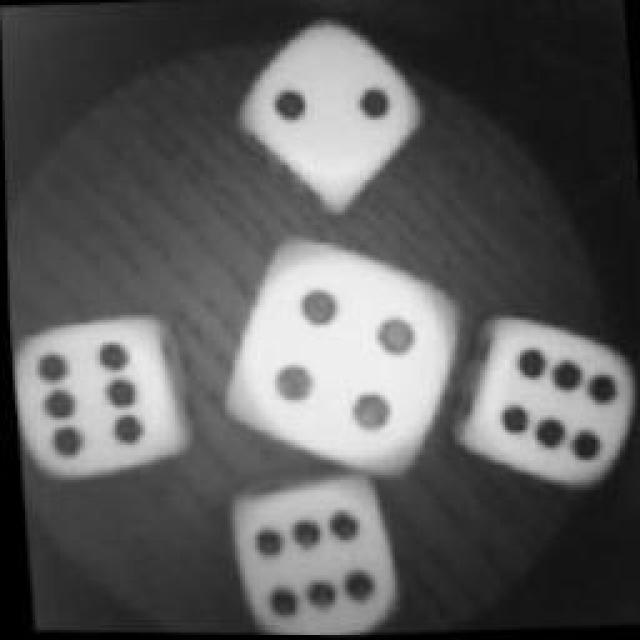dice_2: (215, 12, 427, 228)
dice_4: (206, 230, 466, 485)
dice_6: (445, 307, 640, 505), (7, 294, 195, 486), (226, 466, 406, 636)
